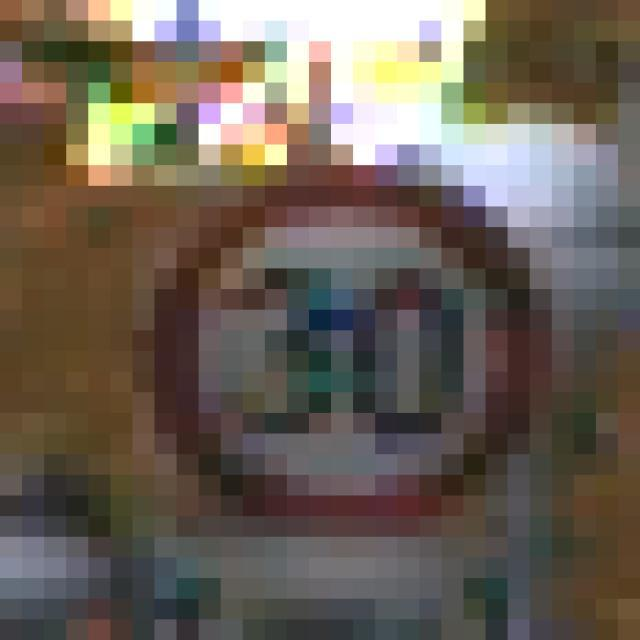Speed Limit -30-: (99, 113, 519, 506)
